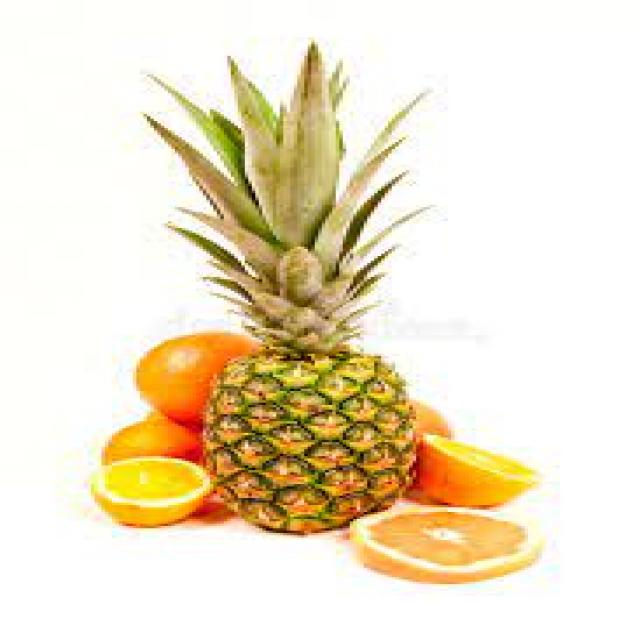orange: (353, 507, 553, 582), (130, 328, 256, 419), (420, 435, 546, 512), (94, 456, 210, 524), (98, 419, 206, 461)
pineapple: (196, 72, 416, 533)
